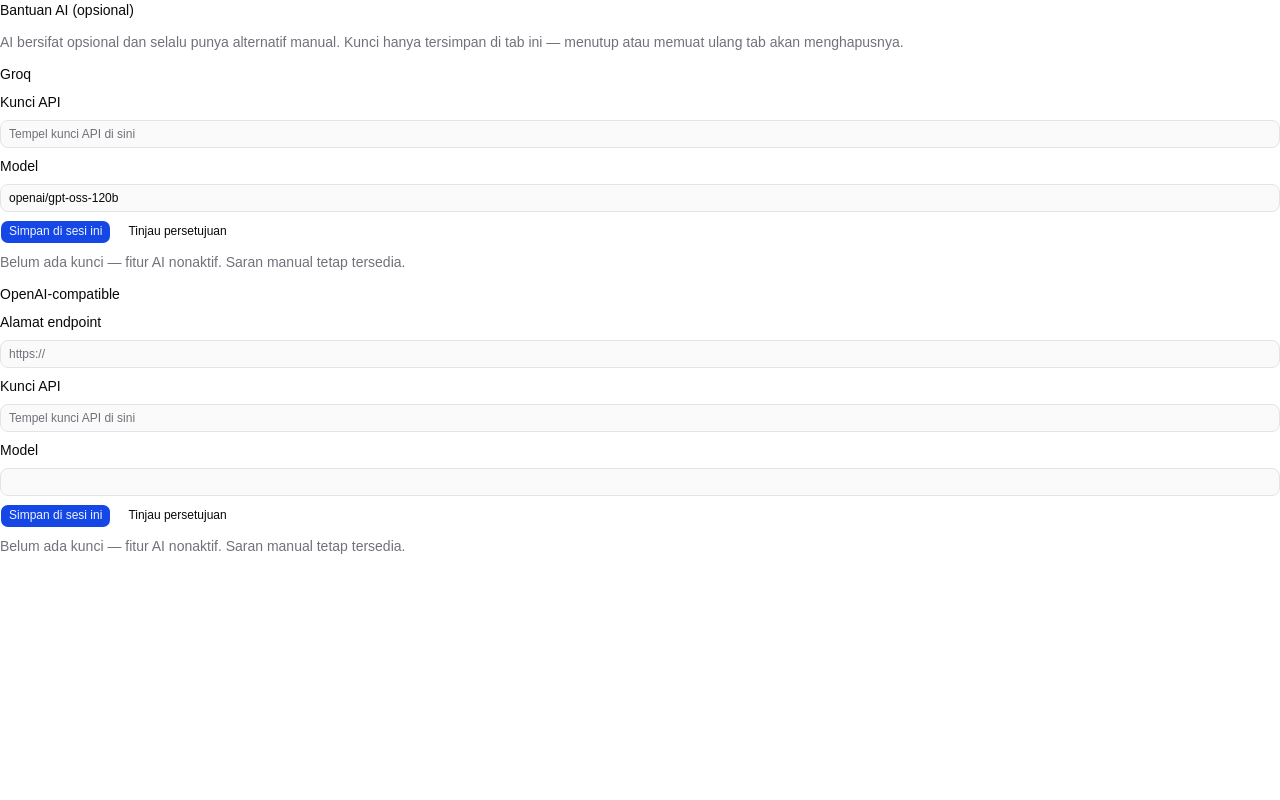
Test: AiSettings (Task 18, FR-407/408/110) › grants and revokes session consent from the review dialog
Click the button with aria-label "Tinjau persetujuan (Groq)" at (178, 232), box [119,220,236,244]
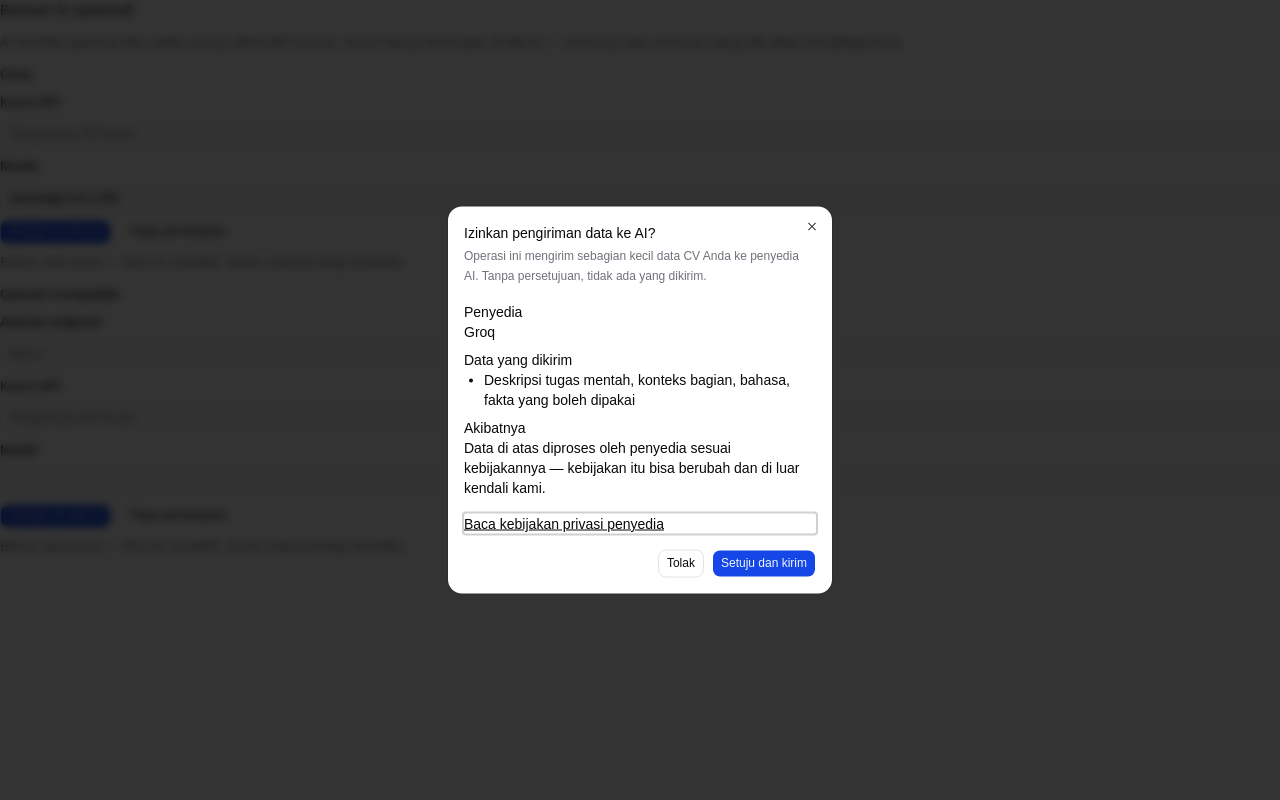
Now the dialog is shown, box [448,206,832,594]
Click the button "Setuju dan kirim" at (764, 564), box [712,550,816,578]
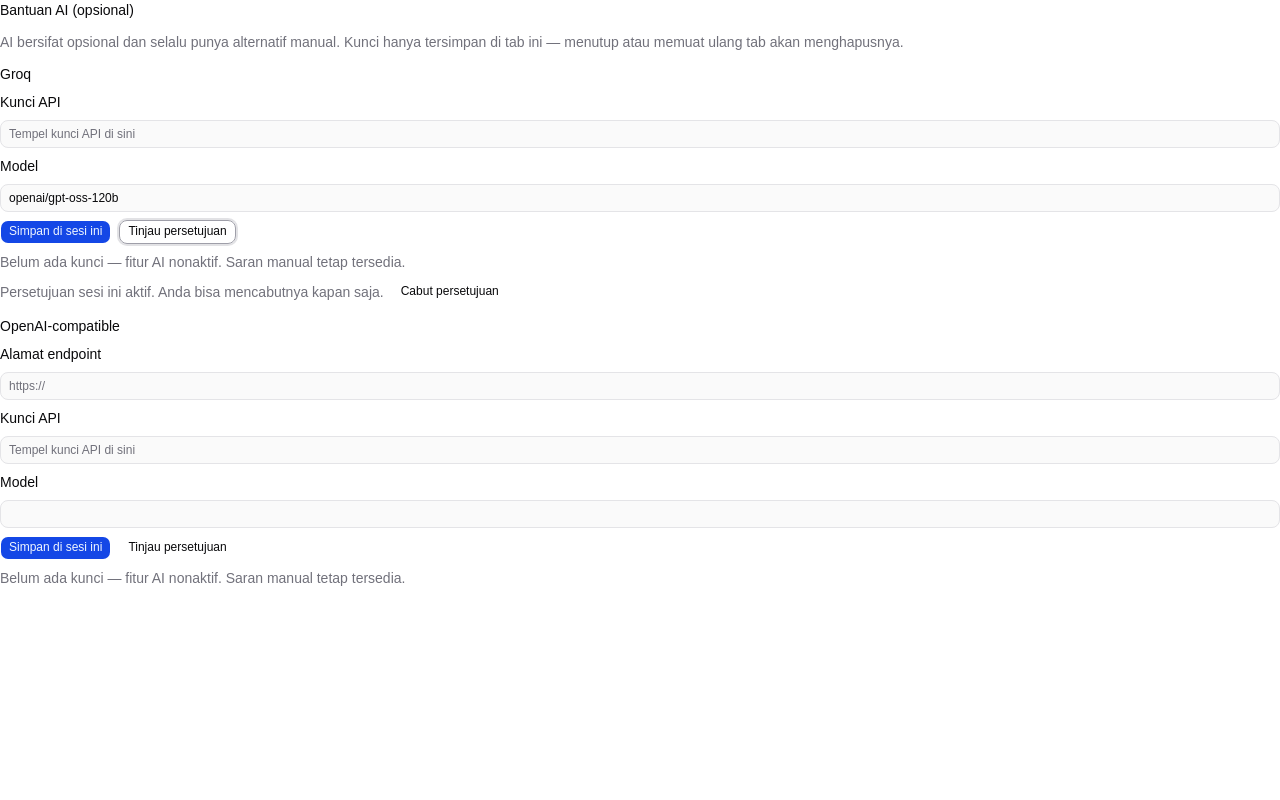
Now the text "Persetujuan sesi ini aktif. Anda bisa mencabutnya kapan saja." is shown, box [0,282,384,302]
Click the button "Cabut persetujuan" at (450, 292), box [392,280,508,304]
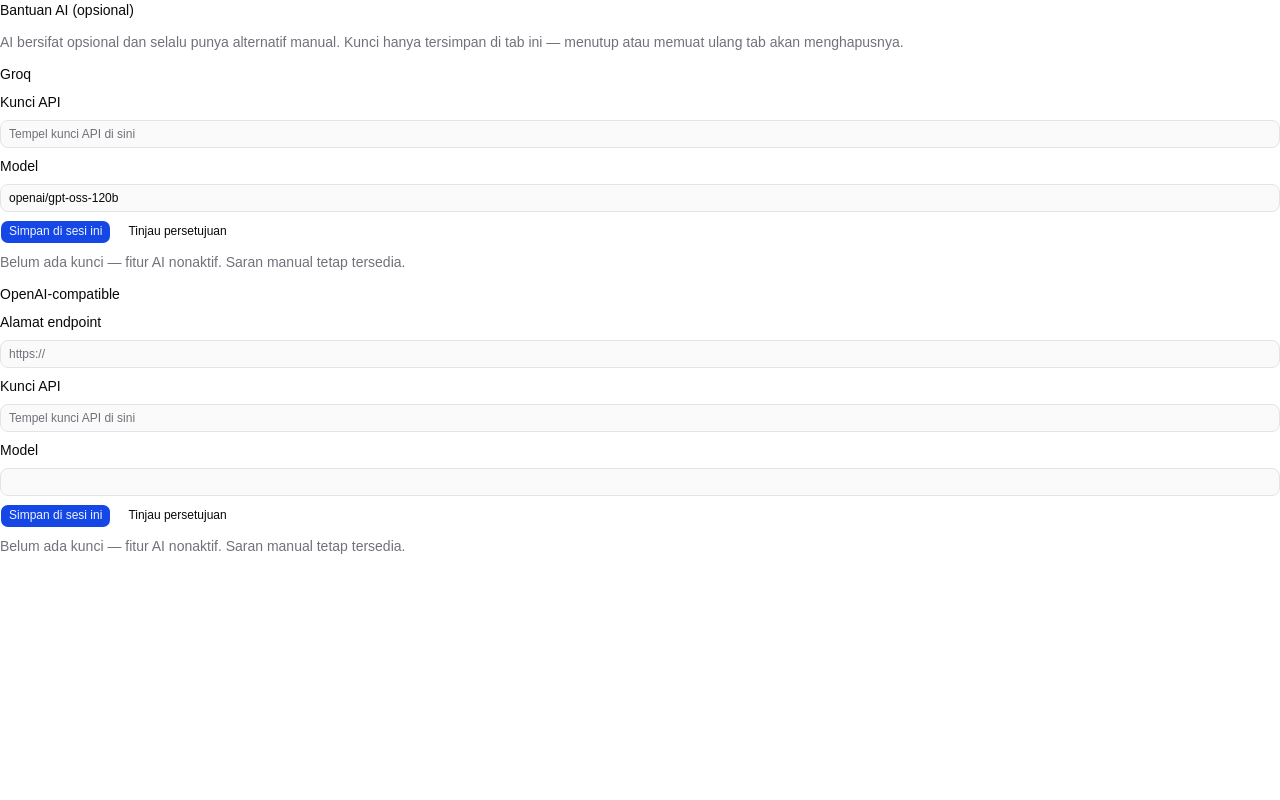
Now the text "Persetujuan sesi ini aktif. Anda bisa mencabutnya kapan saja." is gone
